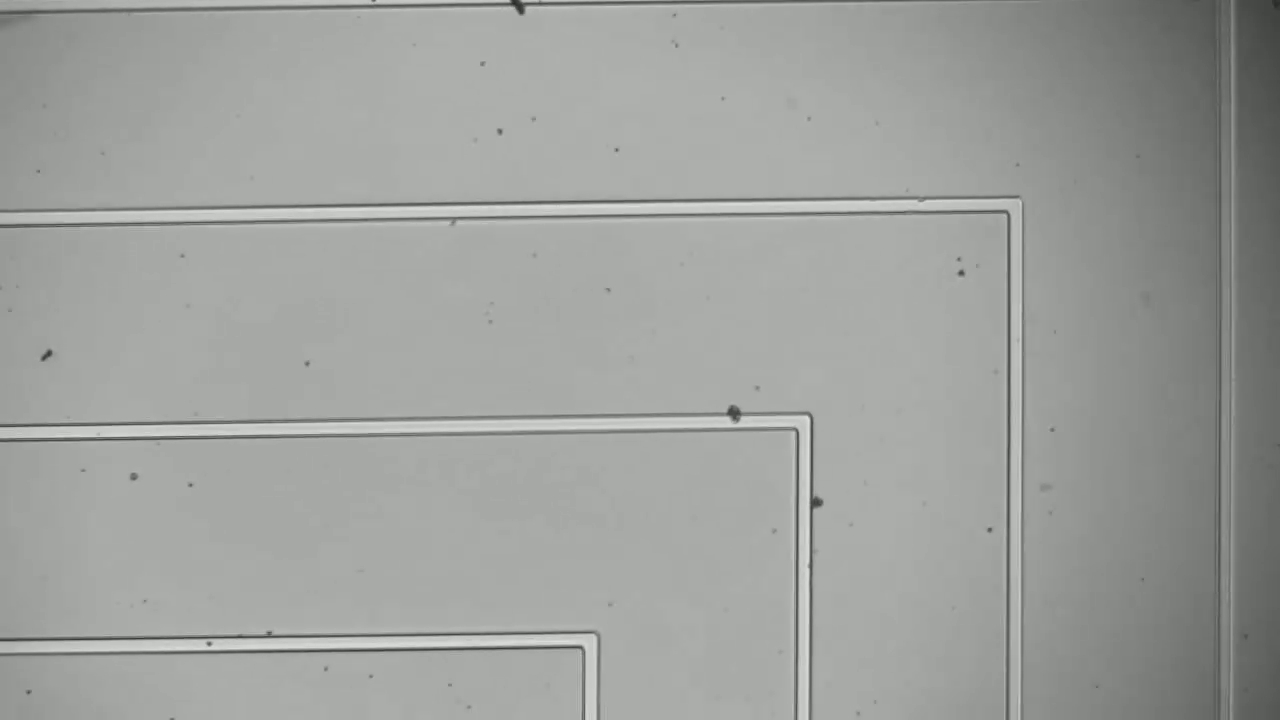stains_enbedded: (719, 397, 750, 438), (504, 1, 551, 22)
